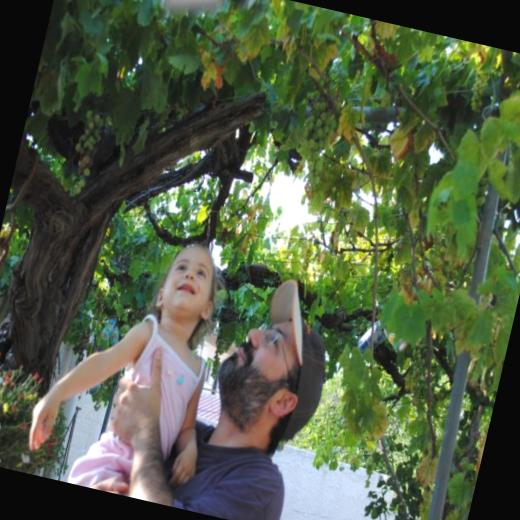Orange: (296, 100, 342, 170), (71, 106, 112, 178), (400, 336, 432, 401), (464, 66, 493, 114), (472, 172, 492, 208), (438, 258, 453, 282)
